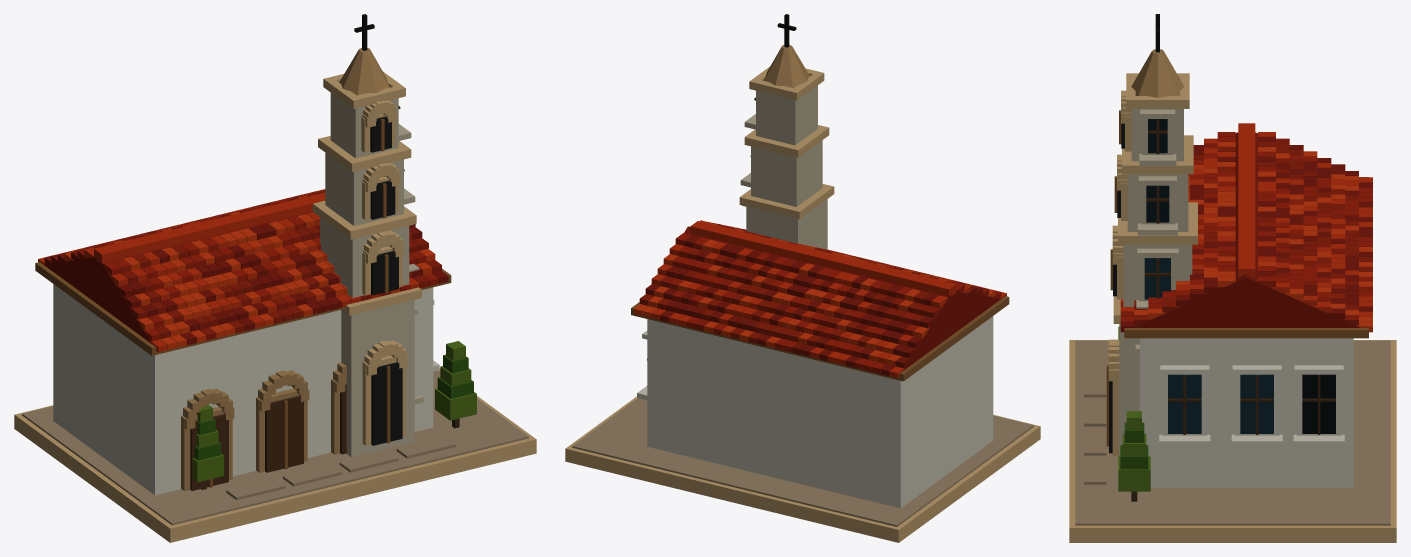
File: SM_Mapa_039.fbx
3 views of the same model, side by side, from view 1: azimuth 30°, elevation 25°; view 2: azimuth 150°, elevation 25°; view 3: azimuth 270°, elevation 25° (orthographic). The views are drawn at different scales.
Parts seen in each view (by area): view 1: SM_Mapa_039; view 2: SM_Mapa_039; view 3: SM_Mapa_039.
Part boxes in pixels (left/top/right/bottom): SM_Mapa_039: left=14, top=14, right=536, bottom=542; SM_Mapa_039: left=565, top=14, right=1040, bottom=542; SM_Mapa_039: left=1069, top=14, right=1396, bottom=542.
Size of the model in its own units: 45 by 33.14 by 51.56.
